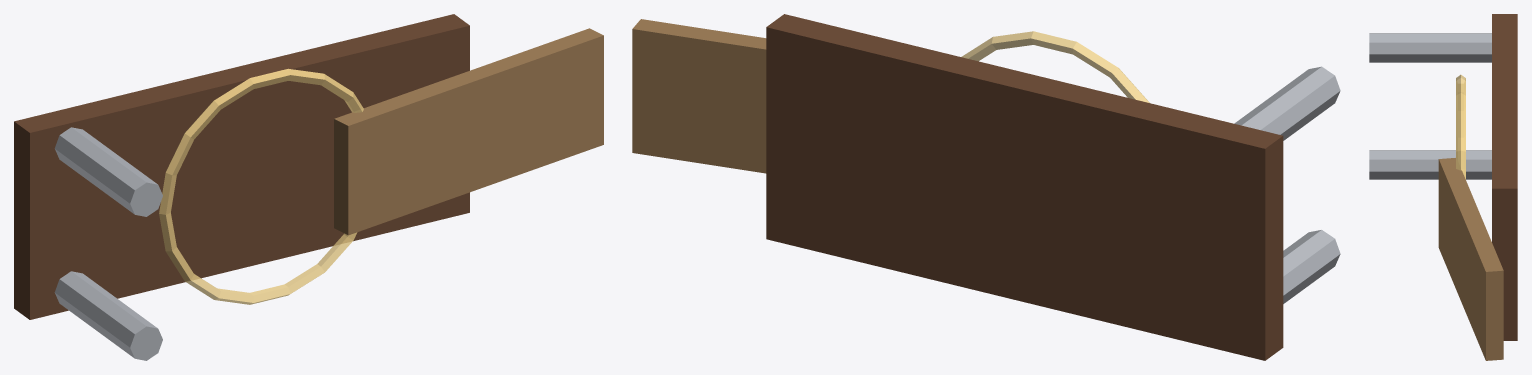
The model's file is 10_skyship_dock.glb.
3 views of the same model, side by side, from view 1: azimuth 30°, elevation 25°; view 2: azimuth 150°, elevation 25°; view 3: azimuth 270°, elevation 25° (orthographic). The views are drawn at different scales.
Parts seen in each view (by area): view 1: dock_platform, boarding_ramp, dock_marker_ring, mooring_post_l, mooring_post_r; view 2: dock_platform, boarding_ramp, mooring_post_r, dock_marker_ring, mooring_post_l; view 3: boarding_ramp, dock_platform, mooring_post_r, mooring_post_l, dock_marker_ring.
Boxes of the visible parts, x1,y1,x2,y2 form: dock_platform: (14,14,469,319); boarding_ramp: (334,28,603,235); dock_marker_ring: (159,68,363,304); mooring_post_l: (54,271,162,360); mooring_post_r: (54,127,162,216); dock_platform: (766,14,1283,360); boarding_ramp: (632,19,766,173); mooring_post_r: (1234,66,1340,140); dock_marker_ring: (961,31,1149,102); mooring_post_l: (1283,230,1340,303); boarding_ramp: (1438,158,1503,360); dock_platform: (1492,14,1517,340); mooring_post_r: (1369,33,1491,62); mooring_post_l: (1369,150,1491,179); dock_marker_ring: (1456,74,1465,179).
Bounding box in the file's own units: 4.25 × 1.62 × 1.18.
